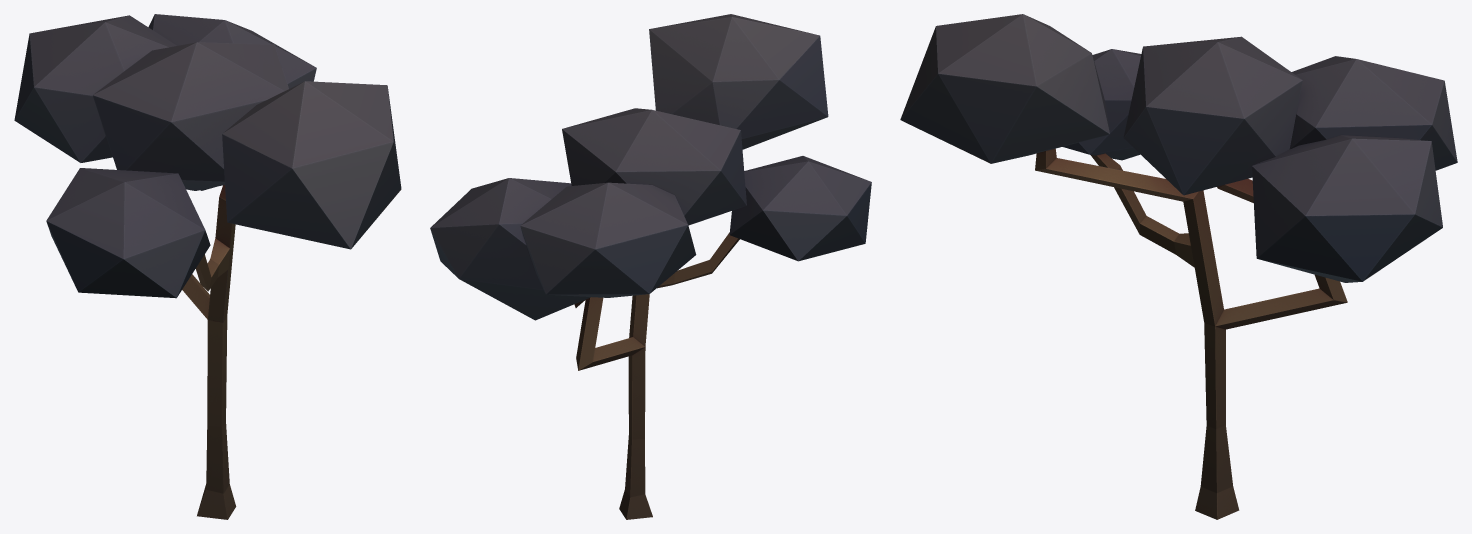
File: Tree1.fbx
3 views of the same model, side by side, from view 1: azimuth 30°, elevation 25°; view 2: azimuth 150°, elevation 25°; view 3: azimuth 270°, elevation 25° (orthographic). The views are drawn at different scales.
Visible parts, largest first — view 1: Tree1; view 2: Tree1; view 3: Tree1.
Part boxes in pixels (x1=…): Tree1: x1=14, y1=14, x2=401, y2=519; Tree1: x1=430, y1=14, x2=871, y2=519; Tree1: x1=900, y1=14, x2=1457, y2=519.
Size of the model in its own units: 192 by 258 by 265.
